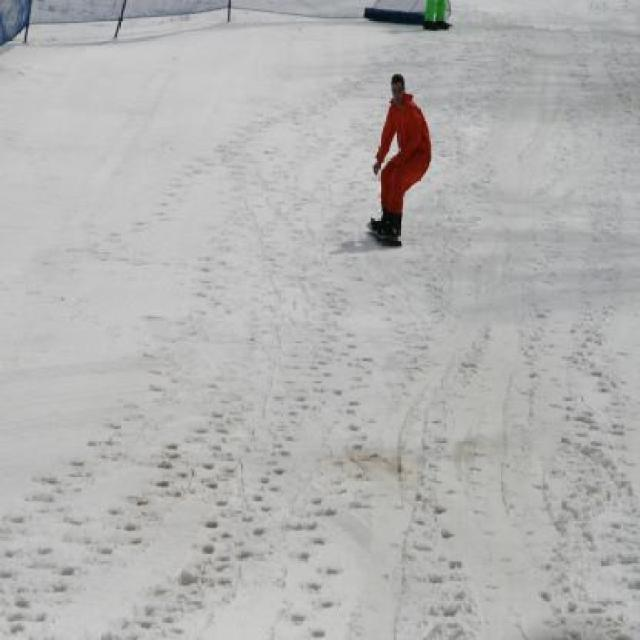Person: (370, 74, 432, 235)
